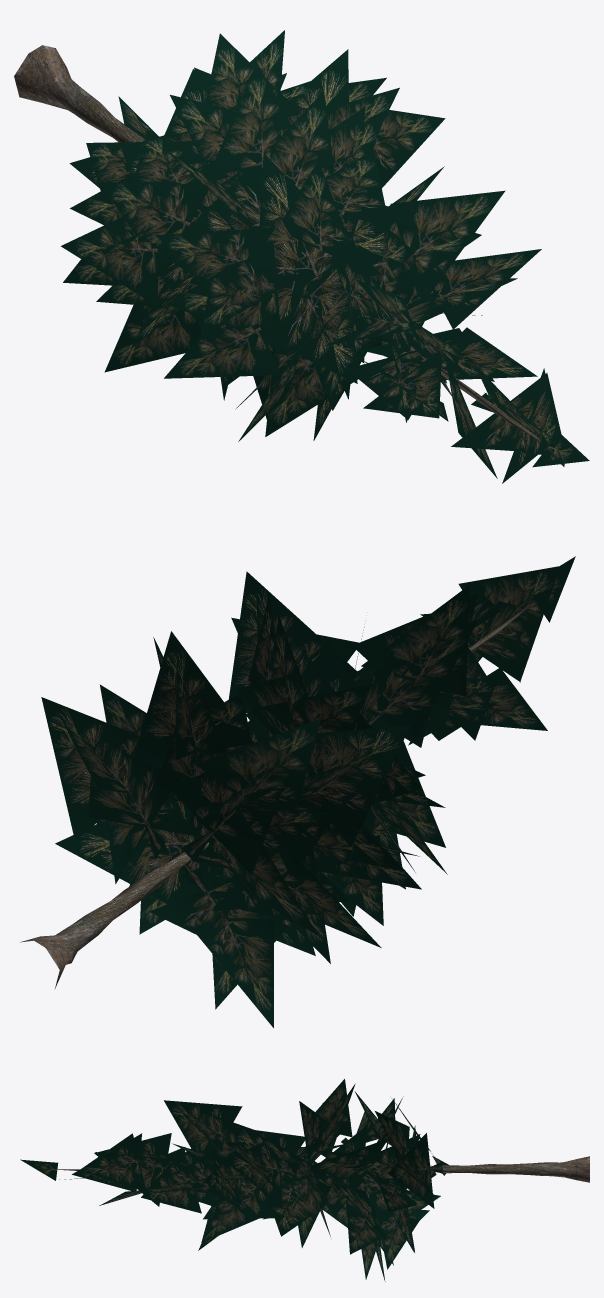
The model's file is tree_pine_xl_b.glb.
3 renders of one model, top to bottom at view 1: azimuth 30°, elevation 25°; view 2: azimuth 150°, elevation 25°; view 3: azimuth 270°, elevation 25°, orthographic. The views are drawn at different scales.
Size of the model in its own units: 294 by 297 by 757.
Materials: 2 (2 with a texture image).
